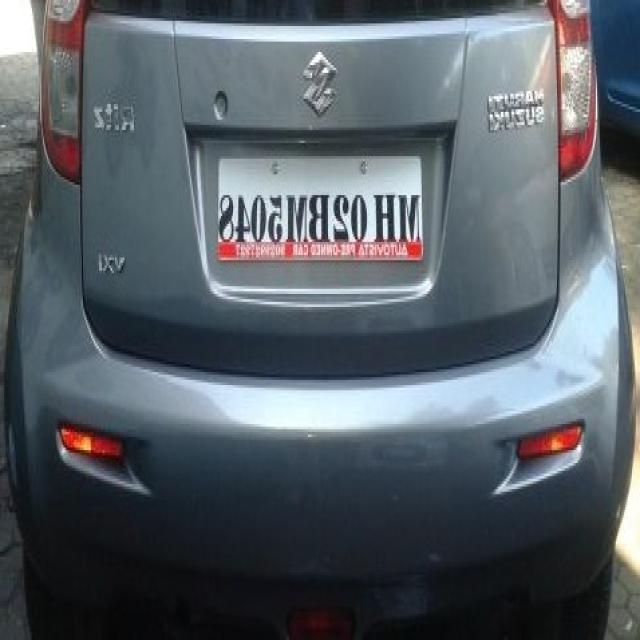number-plate: (216, 151, 420, 259)
